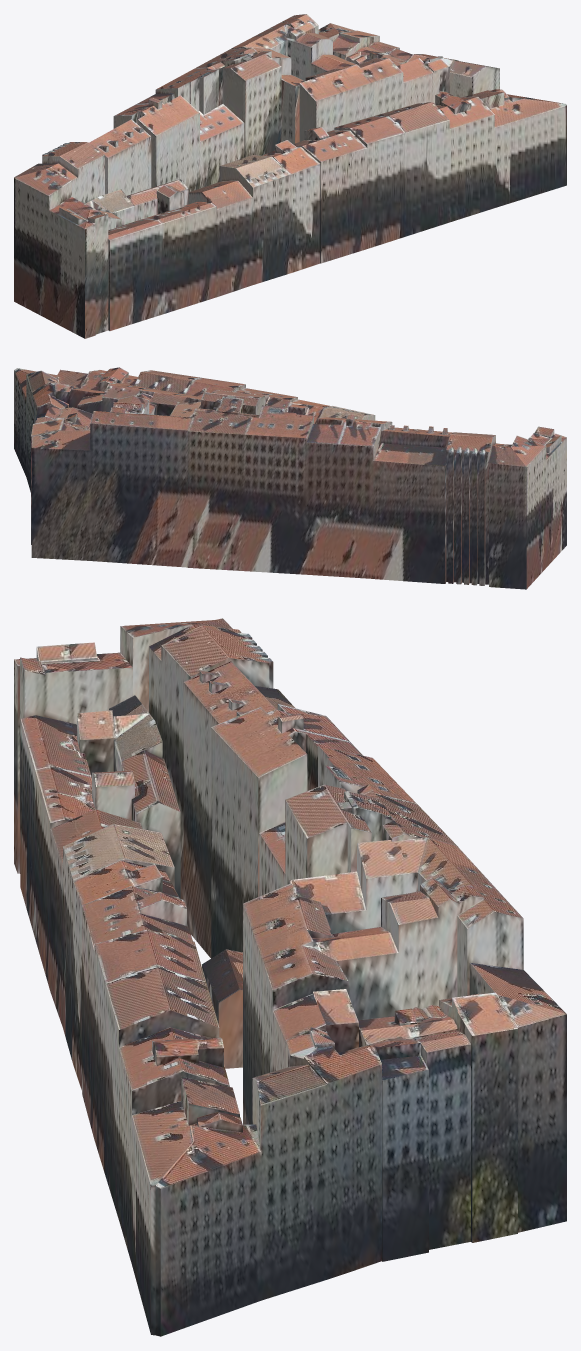
File: LYON_1ER_00092.dae
3 views of the same model, one above another, from view 1: azimuth 30°, elevation 25°; view 2: azimuth 150°, elevation 25°; view 3: azimuth 270°, elevation 25° (orthographic). The views are drawn at different scales.
Size of the model in its own units: 183 by 88.06 by 50.76.
2 materials, 2 textured.
